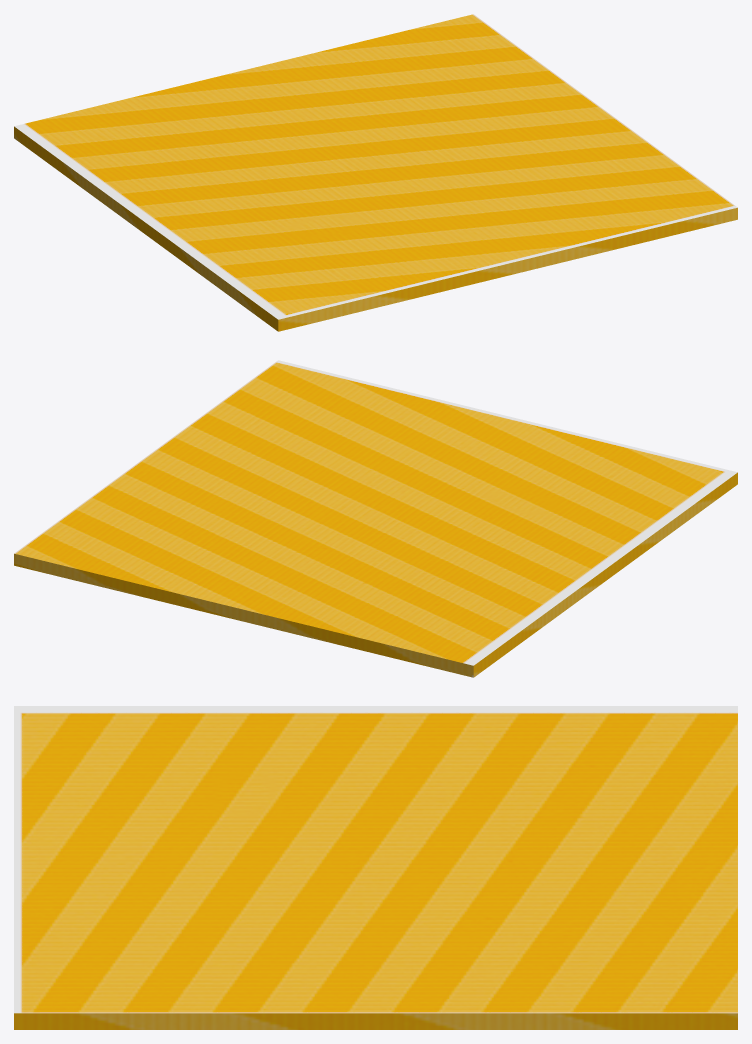
Rendered from bedroomTwoRoof.fbx.
3 renders of one model, top to bottom at view 1: azimuth 30°, elevation 25°; view 2: azimuth 150°, elevation 25°; view 3: azimuth 270°, elevation 25°, orthographic. The views are drawn at different scales.
Parts seen in each view (by area): view 1: BedroomTwoRoof; view 2: BedroomTwoRoof; view 3: BedroomTwoRoof.
Part boxes in pixels (box(x1,y1,x2,y2)): BedroomTwoRoof: box(14, 14, 737, 331); BedroomTwoRoof: box(14, 360, 737, 677); BedroomTwoRoof: box(14, 706, 737, 1029).
Size of the model in its own units: 787 by 19.69 by 784.
